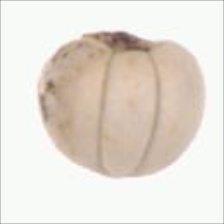L5: (96, 46, 162, 179), (80, 29, 172, 57)
L6: (34, 29, 207, 179)
